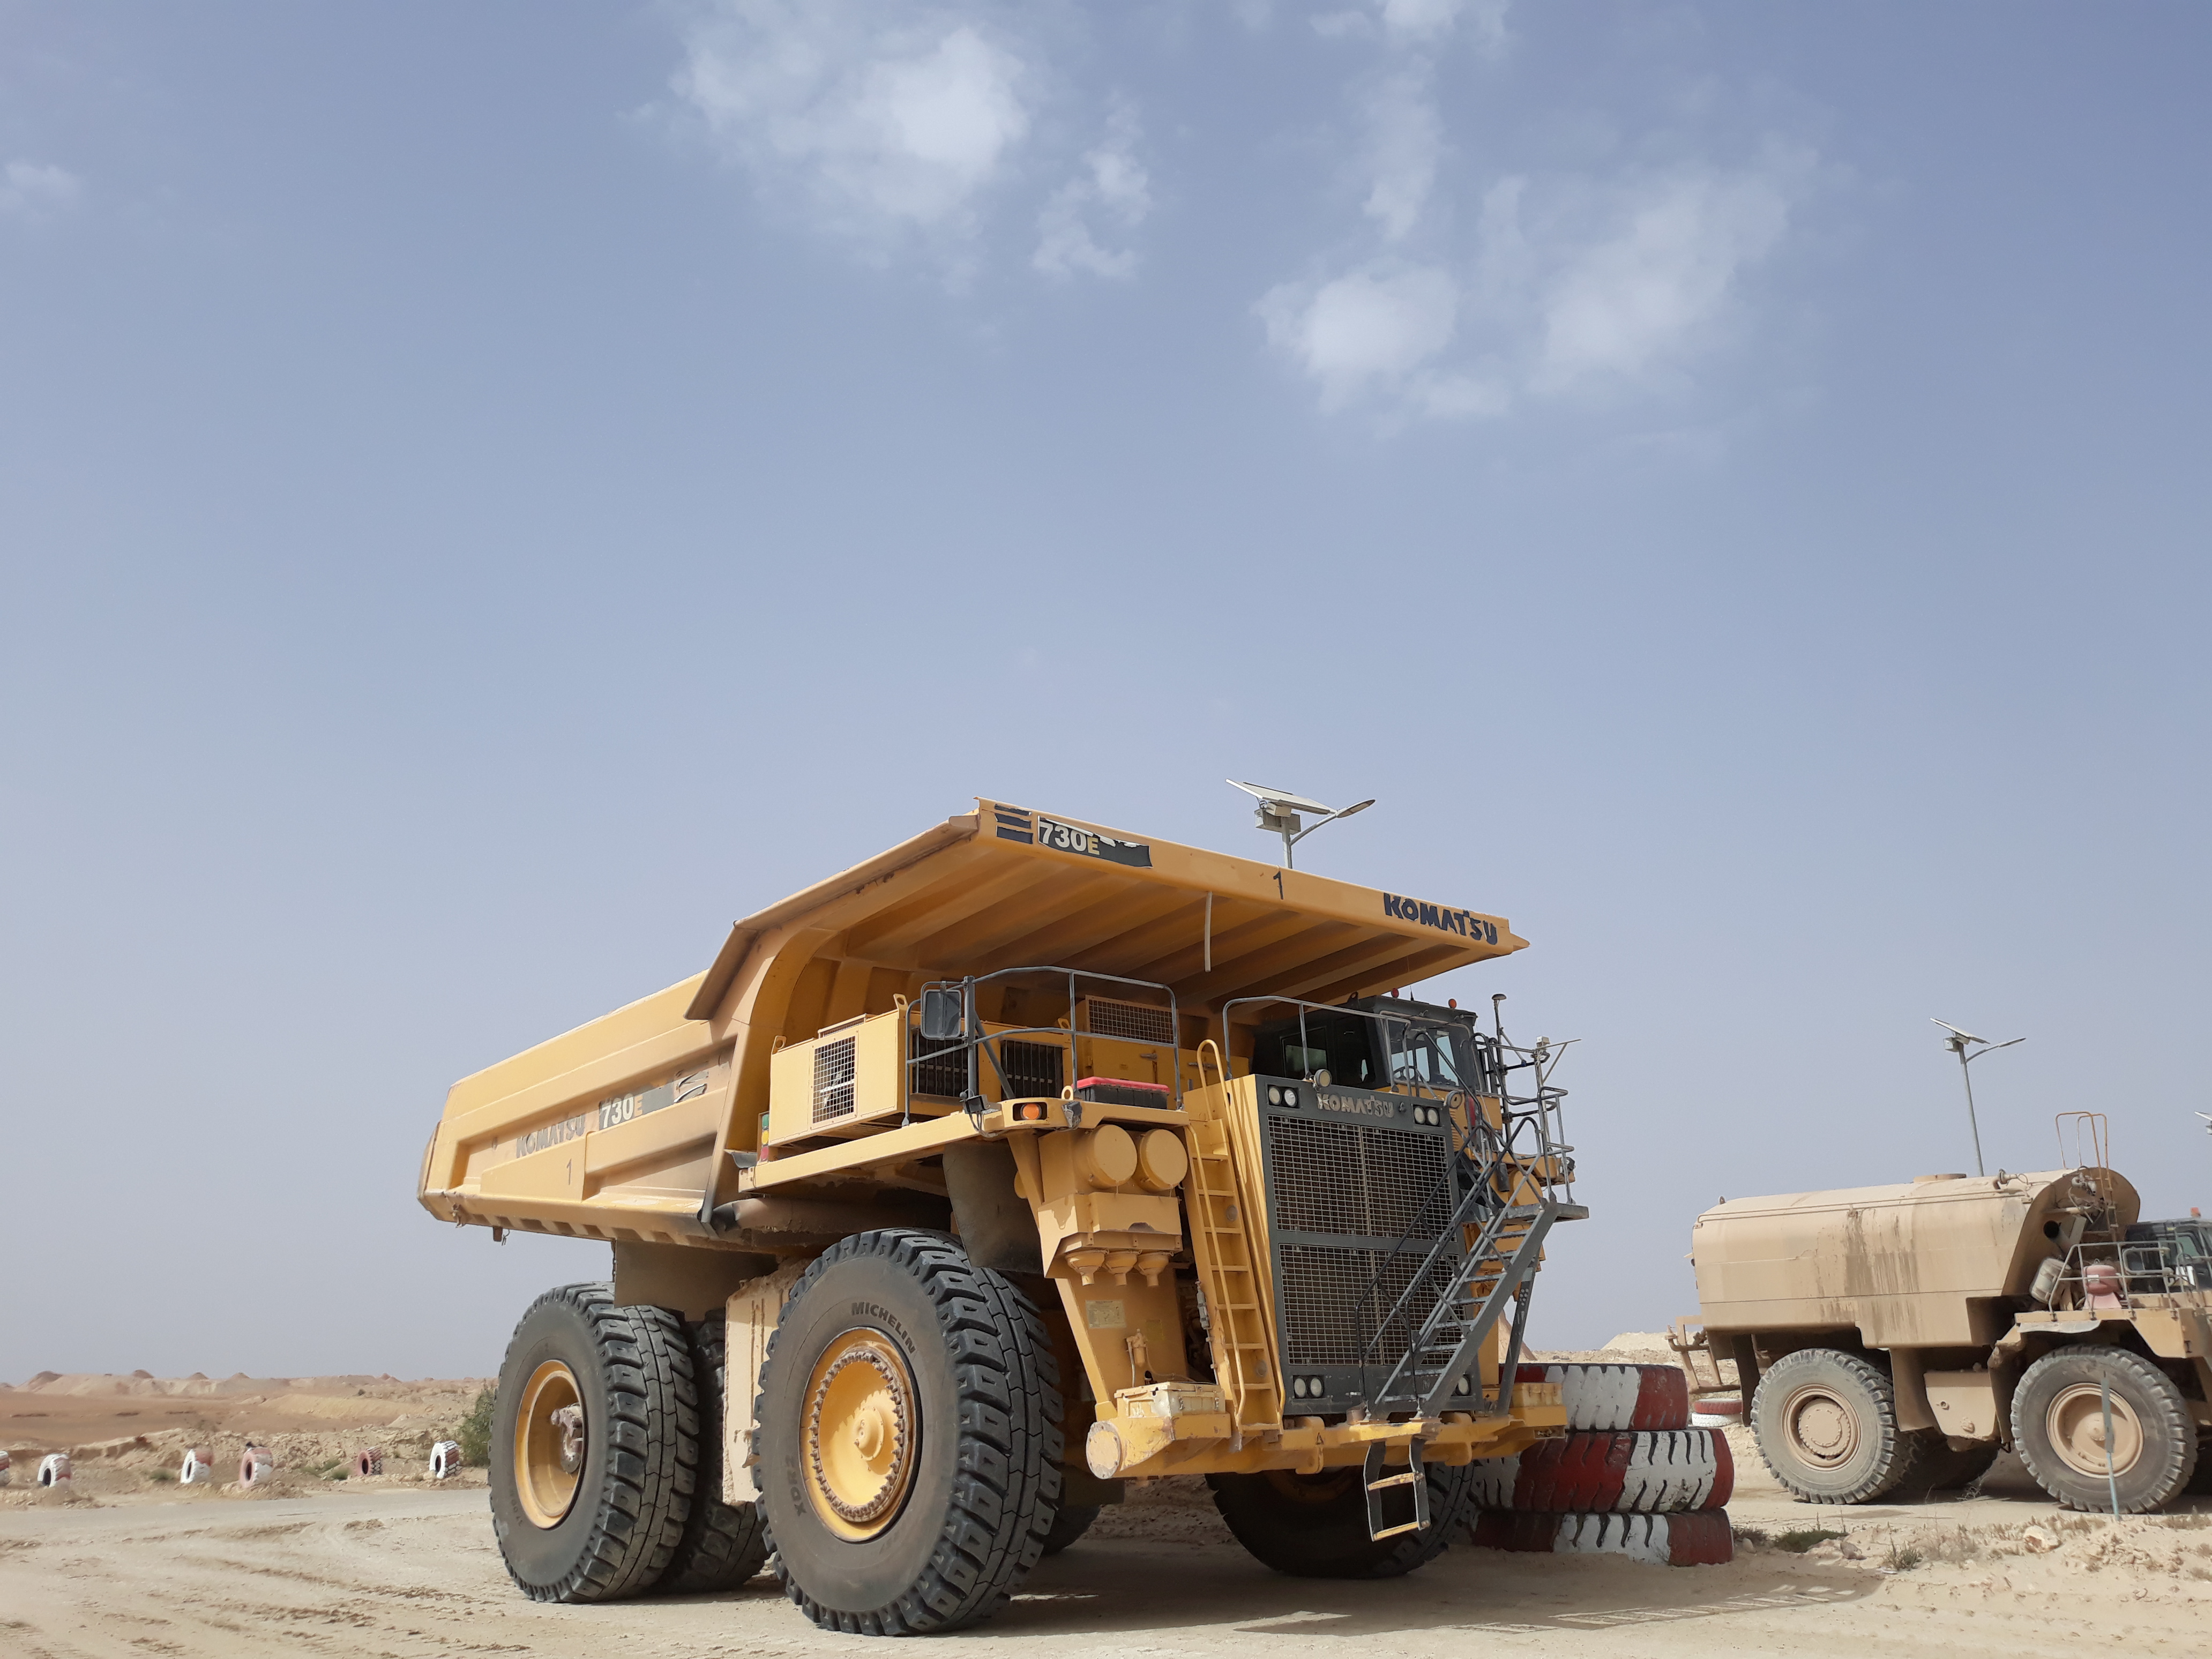camion: (430, 763, 1623, 1626)
